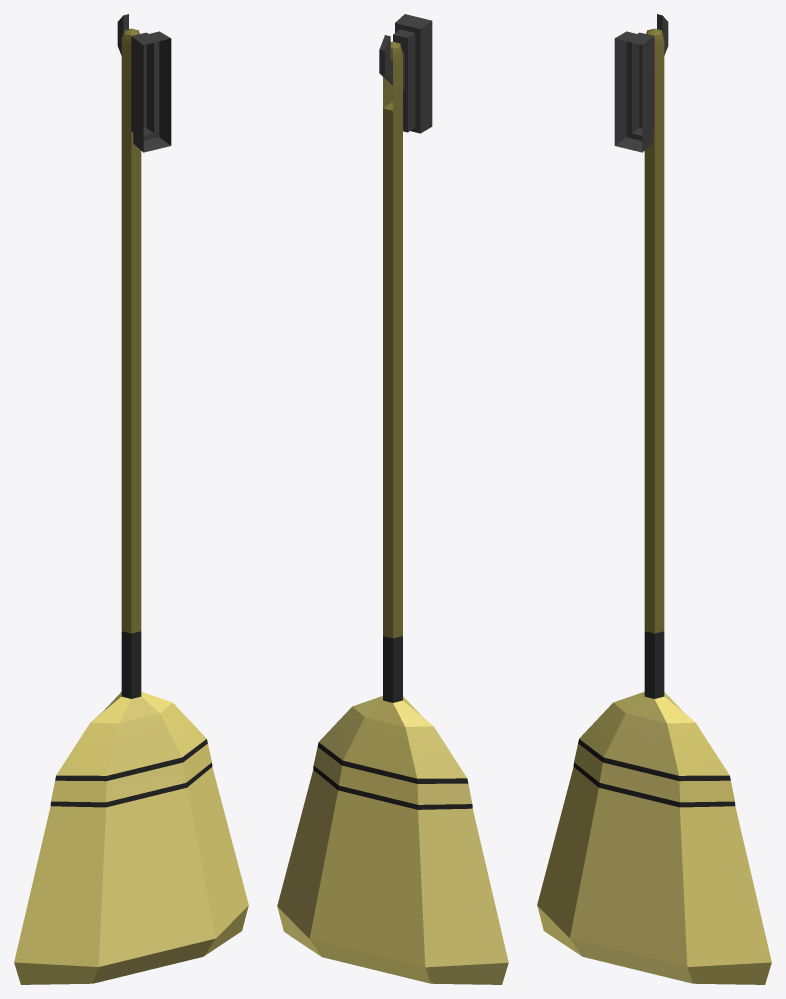
The model's file is SM_Broom.fbx.
3 renders of one model, left to right at view 1: azimuth 30°, elevation 25°; view 2: azimuth 150°, elevation 25°; view 3: azimuth 330°, elevation 25°, orthographic.
Visible parts, largest first — view 1: broom_GEO, broomHook_GEO; view 2: broom_GEO, broomHook_GEO; view 3: broom_GEO, broomHook_GEO.
Boxes of the visible parts, x1,y1,x2,y2 form: broom_GEO: [14, 28, 248, 984]; broomHook_GEO: [117, 14, 171, 152]; broom_GEO: [277, 41, 508, 984]; broomHook_GEO: [379, 14, 432, 133]; broom_GEO: [537, 28, 771, 984]; broomHook_GEO: [614, 14, 668, 152].
Size of the model in its own units: 36.76 by 142 by 14.05.
